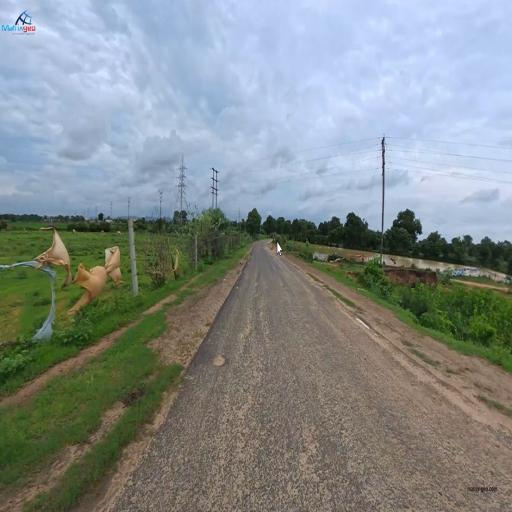ravelling: (251, 324, 363, 478)
